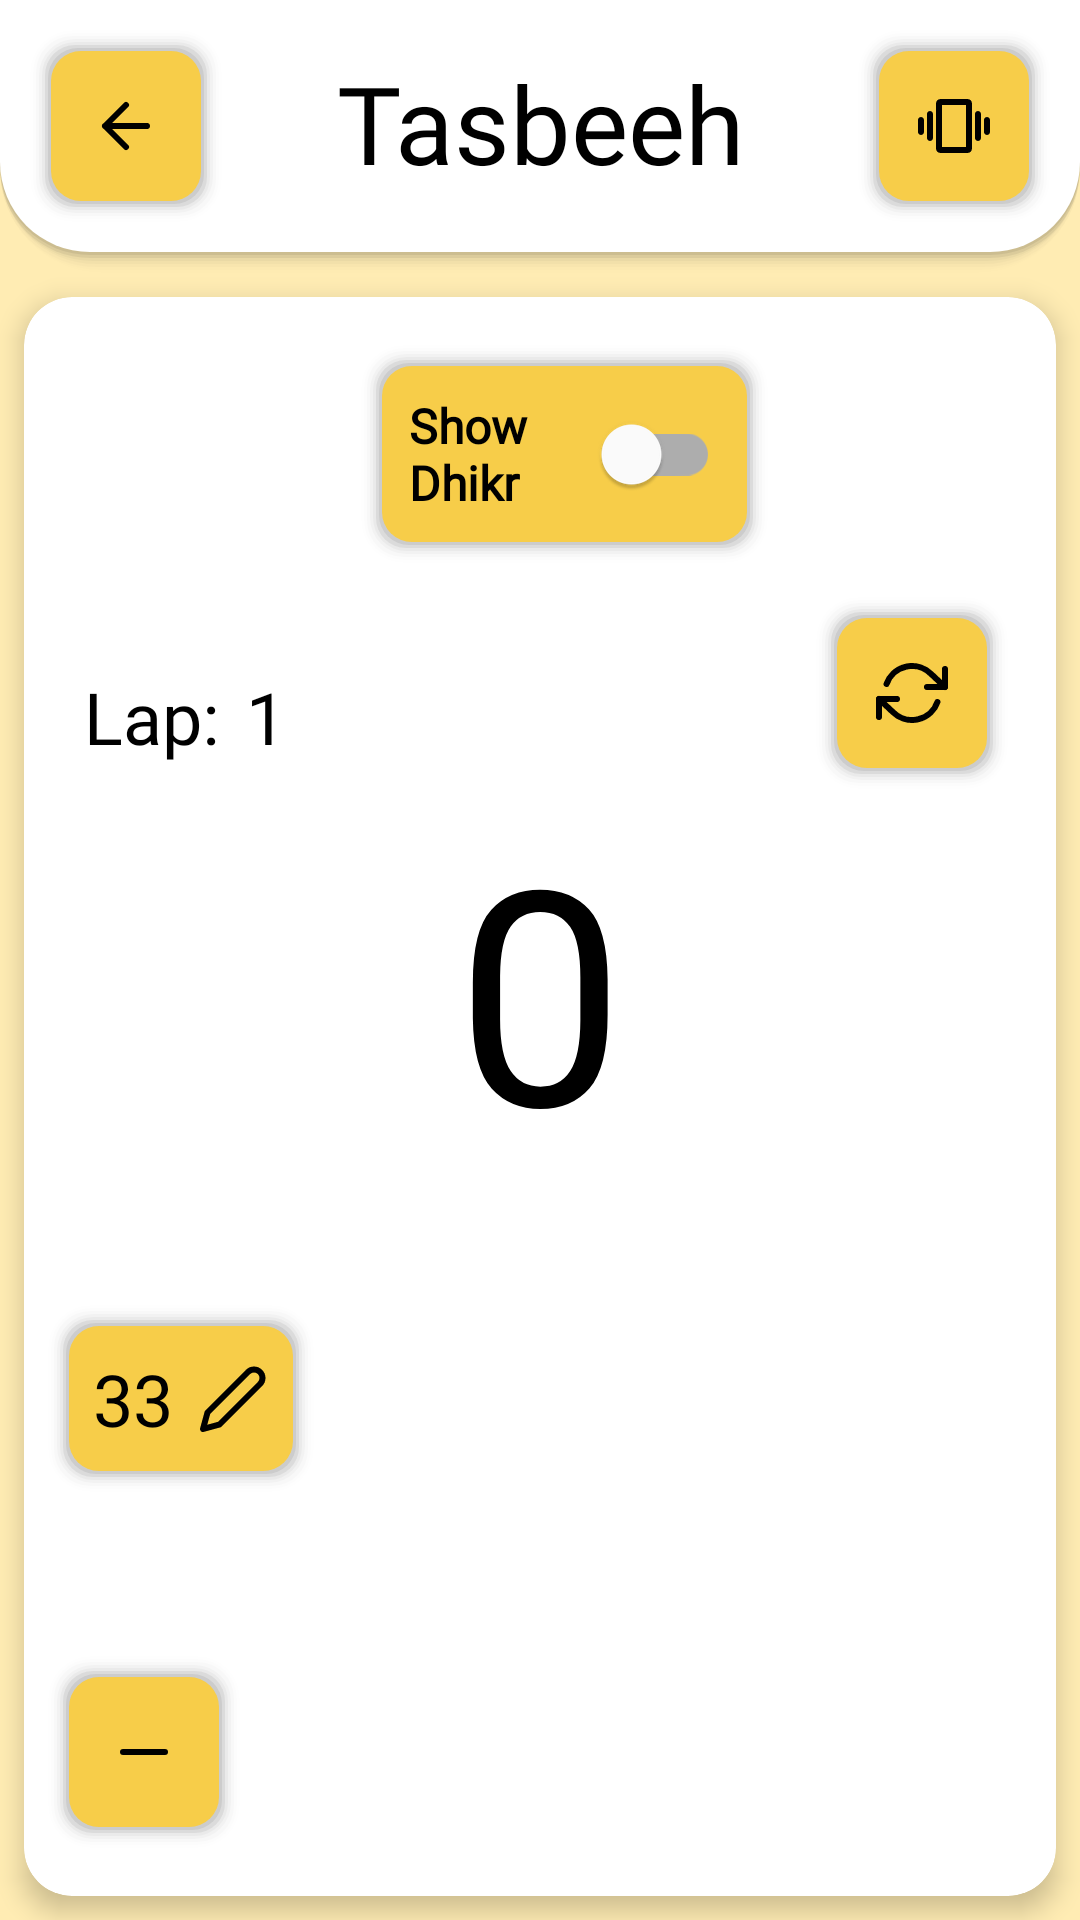

Where icons sit on this 1080 x 1920 app screen, as [left=x1, top=y1, right=x2, bottom=y2]:
arrow left: [left=45, top=45, right=207, bottom=207]
editor: [left=200, top=1366, right=266, bottom=1432]
minus: [left=63, top=1671, right=225, bottom=1833]
Reset Counter: [left=831, top=612, right=993, bottom=774]
vibration: [left=873, top=45, right=1035, bottom=207]
